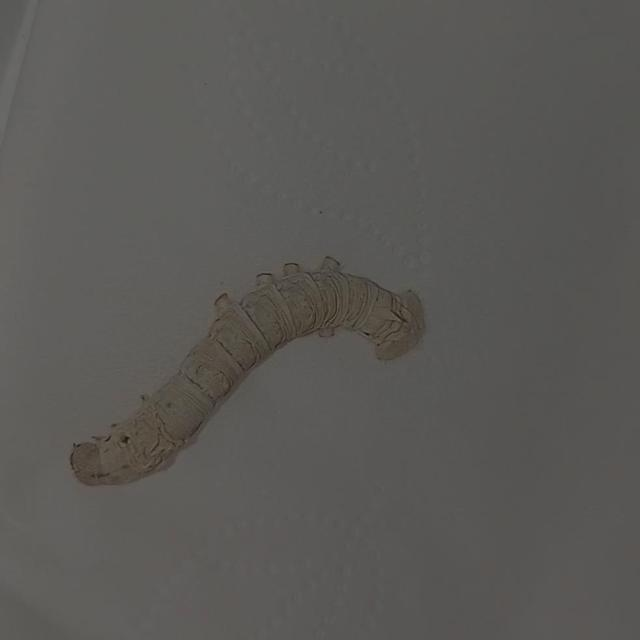Healthy: (57, 241, 437, 493)
